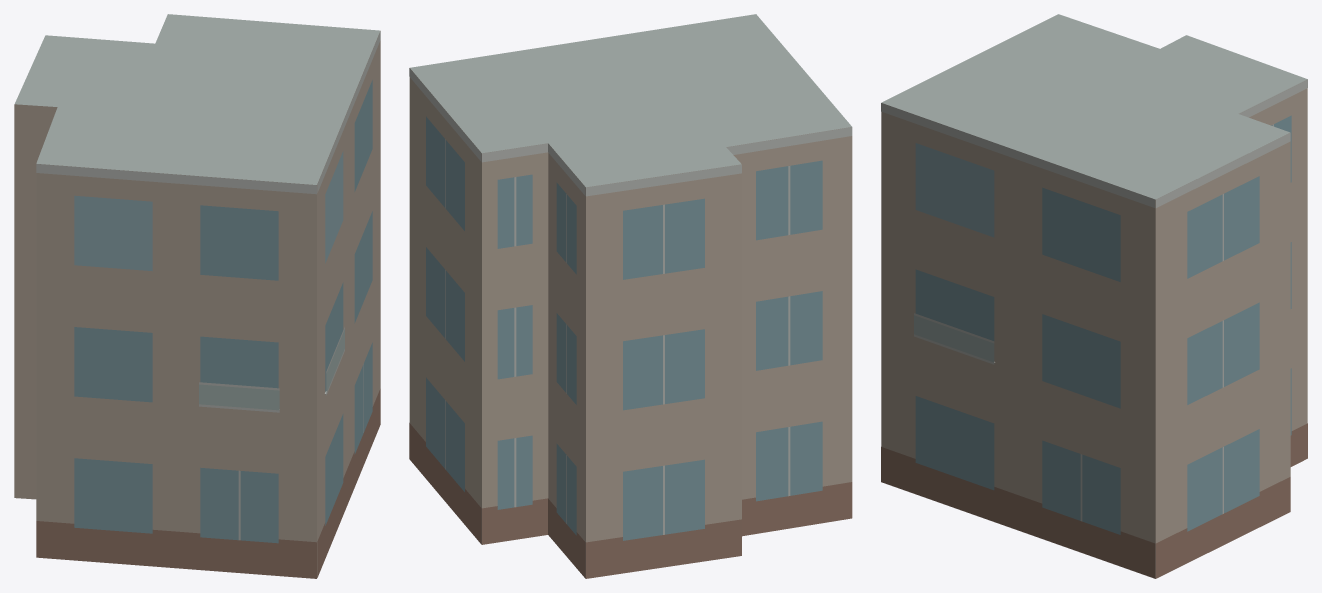
Rendered from survey-upis-32897324.glb.
3 renders of one model, left to right at view 1: azimuth 30°, elevation 25°; view 2: azimuth 150°, elevation 25°; view 3: azimuth 270°, elevation 25°, orthographic. The views are drawn at different scales.
Visible parts, largest first — view 1: survey-upis-32897324.tmp; view 2: survey-upis-32897324.tmp; view 3: survey-upis-32897324.tmp.
Part boxes in pixels (bbox=[...]): survey-upis-32897324.tmp: bbox=[14, 14, 380, 578]; survey-upis-32897324.tmp: bbox=[409, 14, 852, 578]; survey-upis-32897324.tmp: bbox=[881, 14, 1307, 578].
Bounding box in the file's own units: 11 × 10.48 × 10.69.
